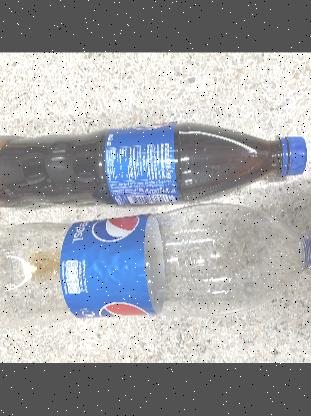Plastic Bottle: (0, 204, 311, 325), (0, 119, 307, 209)
